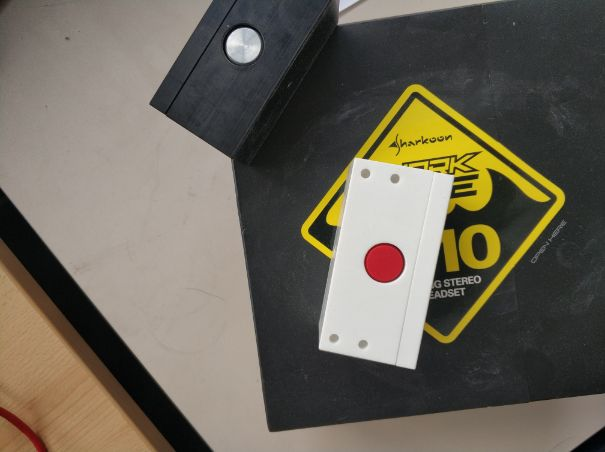black+black+silver: (144, 1, 346, 169)
white+white+red: (314, 156, 457, 373)
